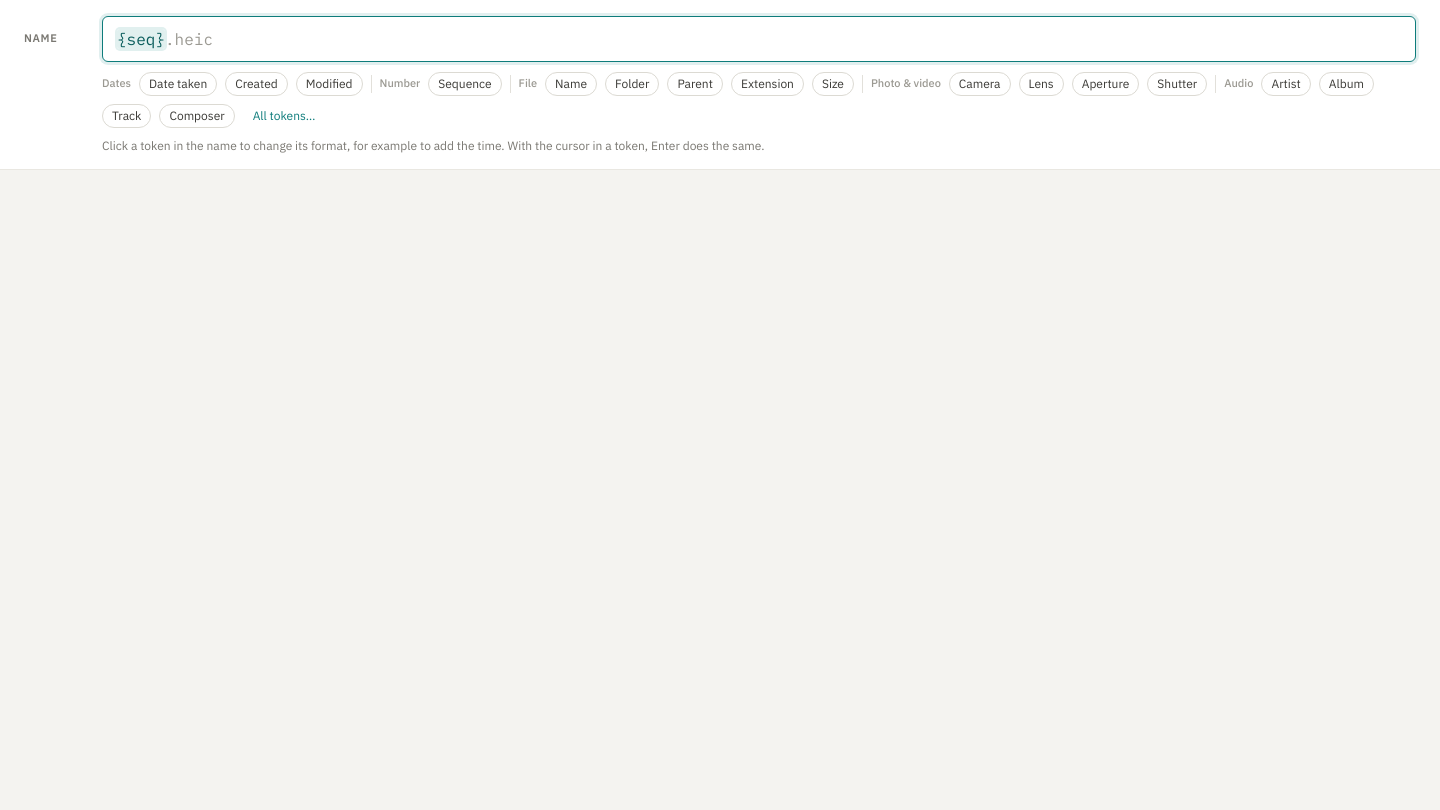
Test: token popover › offers Digits but no Default for {seq}
Click the field named "Name pattern" at (759, 39), box left=103, top=17, right=1415, bottom=61
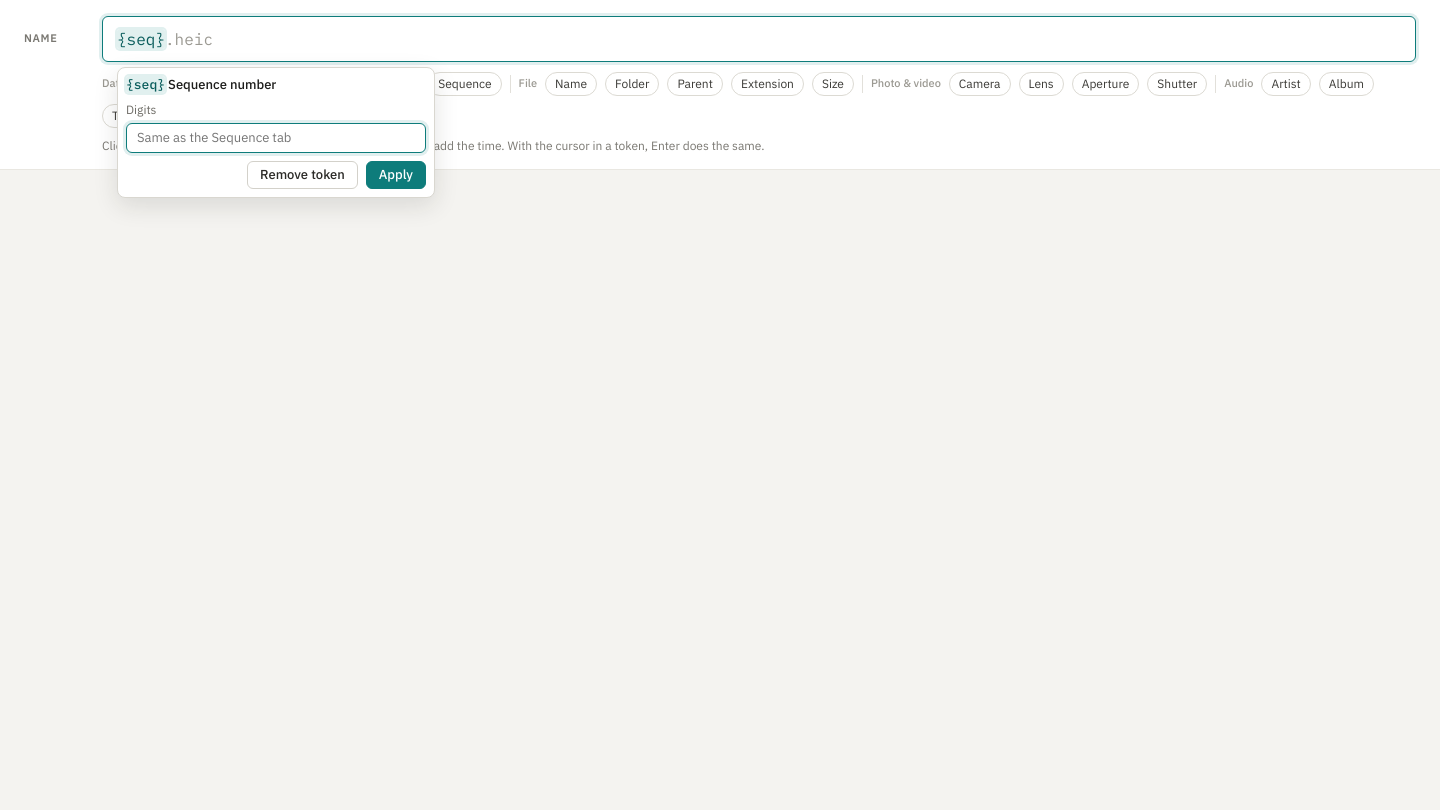
Result: the field labelled "Digits" is shown at left=126, top=123, right=426, bottom=153
